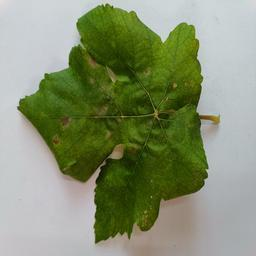Powdery-Mildew: (80, 50, 112, 93), (86, 103, 111, 130), (174, 75, 199, 93), (174, 37, 200, 54), (47, 132, 64, 149), (139, 62, 155, 78)
